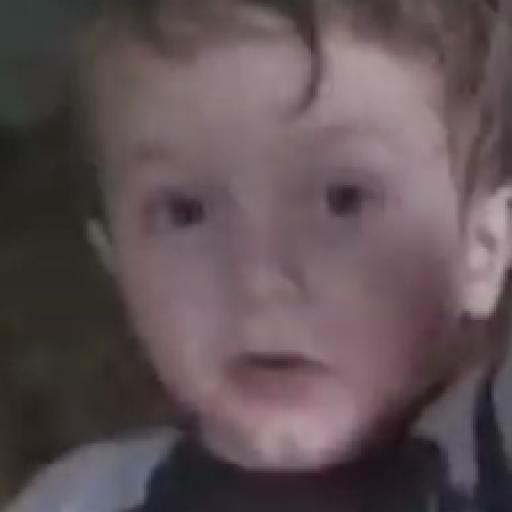Autism: (73, 5, 512, 480)
